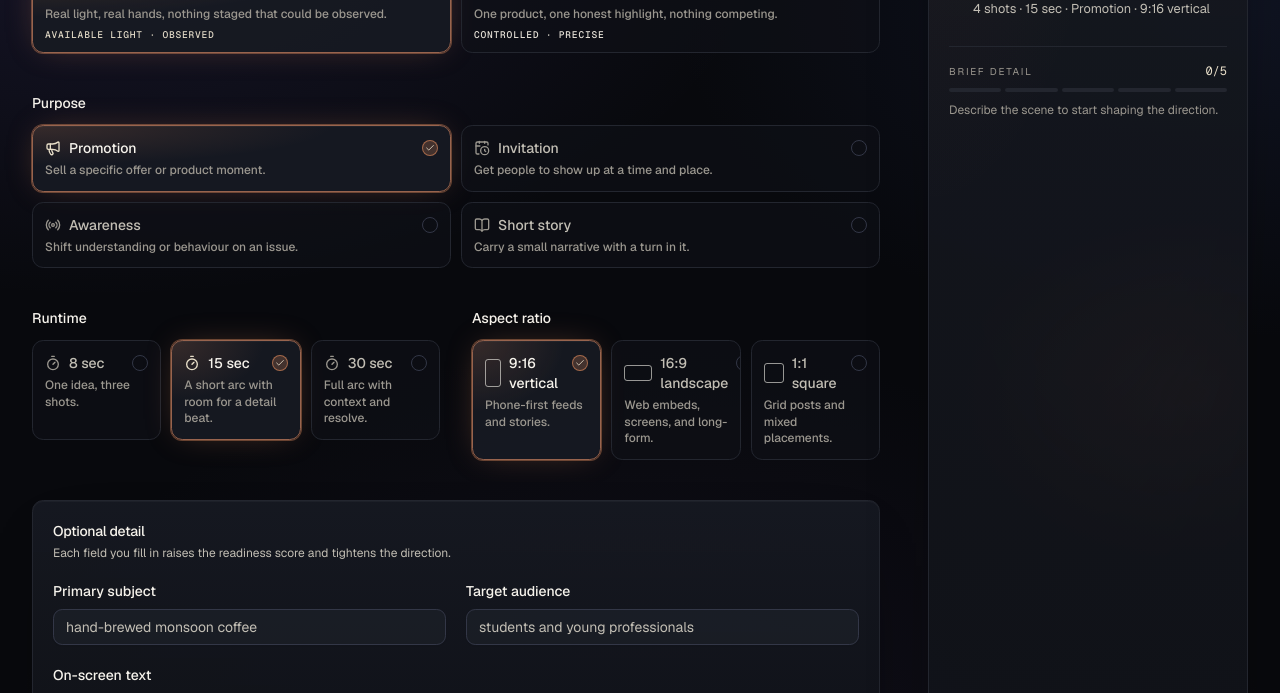
Test: option card selection semantics › commits the focused option with the keyboard and reports it through accessible state
The width and height of the screenshot is (1280, 693).
(page scrolled)
Click the 5th radio button named "8 sec".
click(39, 347)  # box x1=31 y1=339 x2=47 y2=355
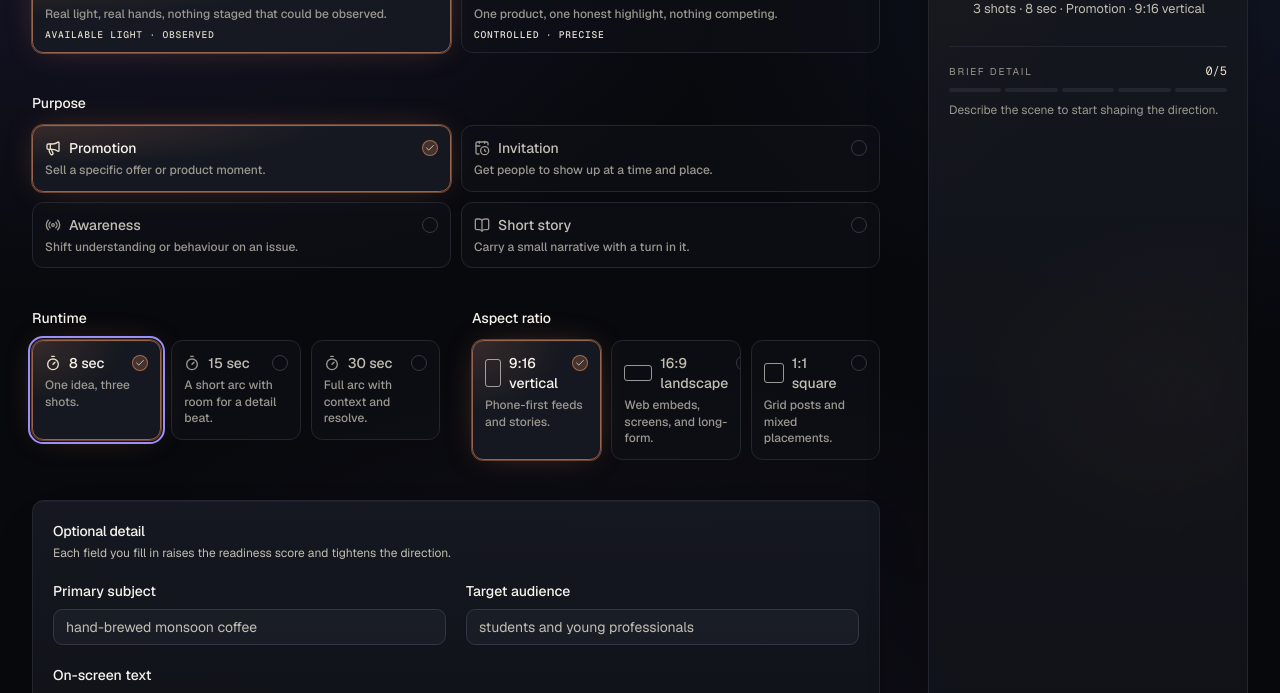
Expected: the 7th radio button named "30 sec" is not checked, x1=310 y1=339 x2=326 y2=355
Expected: the 5th radio button named "8 sec" is checked, x1=31 y1=339 x2=47 y2=355
Type keys "{ArrowLeft}[Space]"
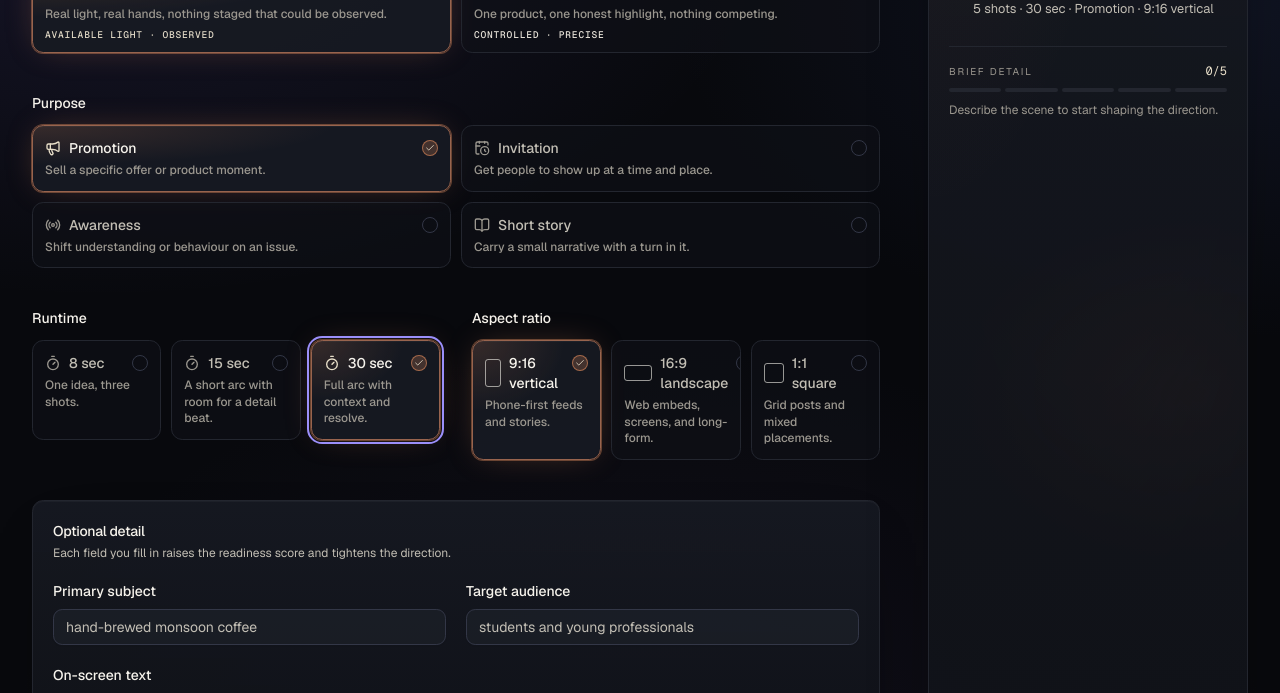
Expected: the 5th radio button named "8 sec" is not checked, x1=31 y1=339 x2=47 y2=355
Expected: the 7th radio button named "30 sec" is checked, x1=310 y1=339 x2=326 y2=355
